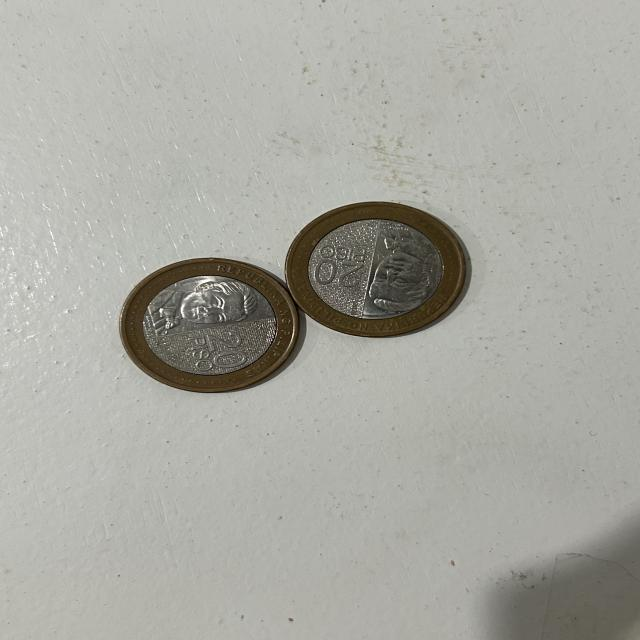20_New_Front: (182, 331, 250, 376), (317, 241, 368, 297)
